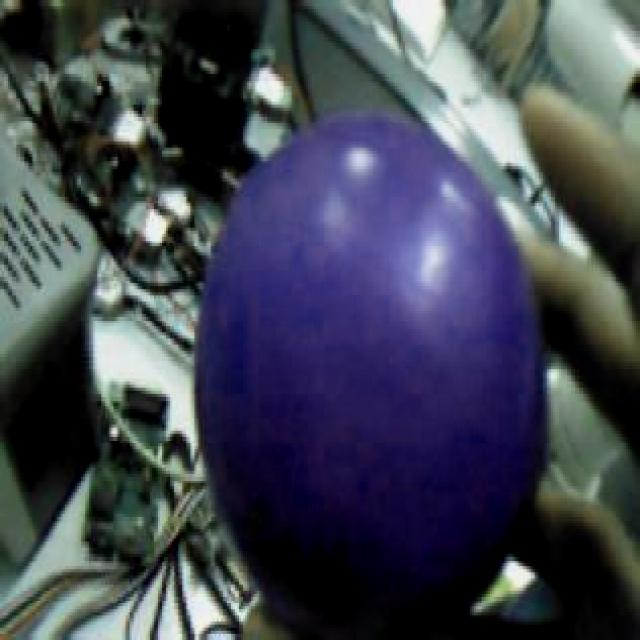BallPurple: (193, 116, 542, 640)
